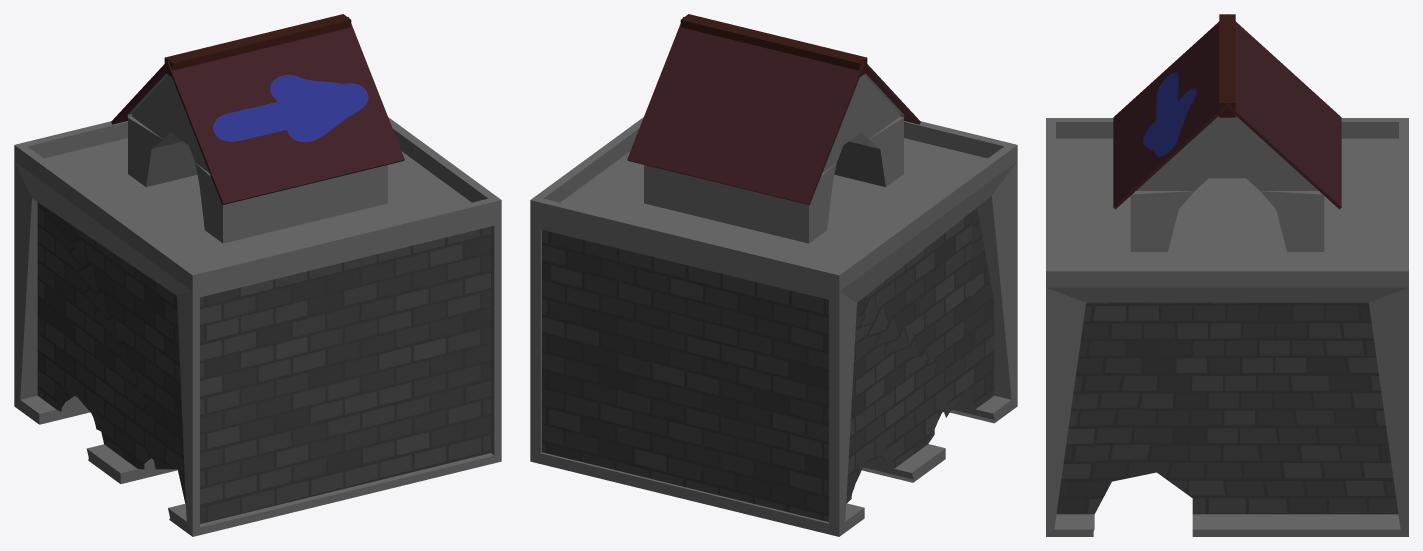
Rendered from constructor.fbx.
The picture shows the model from 3 angles, left to right: view 1: azimuth 30°, elevation 25°; view 2: azimuth 150°, elevation 25°; view 3: azimuth 270°, elevation 25°; orthographic projection.
Parts seen in each view (by area): view 1: Cube.006, Plane.001, Cube, Cube.005, Plane.002; view 2: Cube.006, Plane.002, Cube, Cube.005, Plane.001; view 3: Cube.006, Cube, Plane.001, Plane.002, Cube.005.
Part boxes in pixels (bbox=[...]): Cube.006: bbox=[14, 117, 501, 536]; Plane.001: bbox=[166, 17, 404, 205]; Cube: bbox=[127, 73, 387, 243]; Cube.005: bbox=[164, 14, 351, 76]; Plane.002: bbox=[111, 61, 167, 124]; Cube.006: bbox=[530, 117, 1017, 536]; Plane.002: bbox=[627, 17, 864, 205]; Cube: bbox=[644, 73, 904, 243]; Cube.005: bbox=[680, 14, 867, 76]; Plane.001: bbox=[864, 61, 920, 124]; Cube.006: bbox=[1046, 118, 1408, 536]; Cube: bbox=[1130, 116, 1324, 251]; Plane.001: bbox=[1113, 21, 1229, 209]; Plane.002: bbox=[1227, 21, 1341, 209]; Cube.005: bbox=[1219, 14, 1235, 117].
Bounding box in the file's own units: 659 × 806 × 659.
4 materials, 2 textured.
